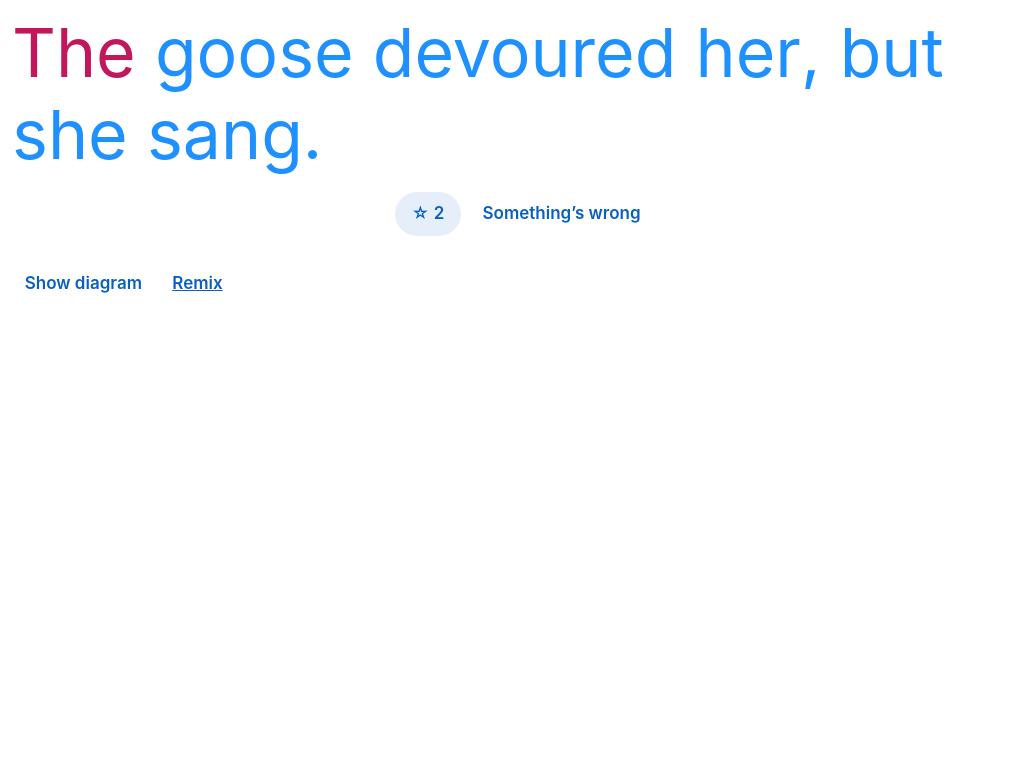
Test case: SentenceView › opens a word’s card and keeps the diagram closed until asked
The width and height of the screenshot is (1036, 780).
Click the button "goose".
click(254, 53)  # box top-left (155, 12), bottom-right (354, 94)
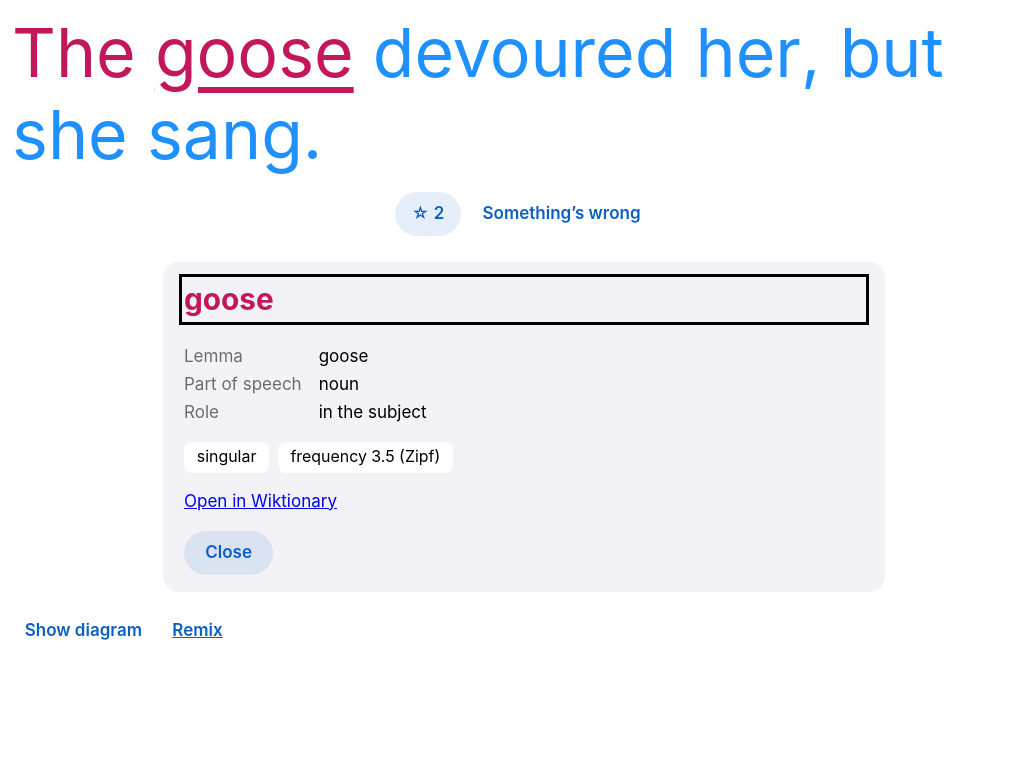
Expected: the element "goose" is shown, top-left (163, 262), bottom-right (885, 592)
